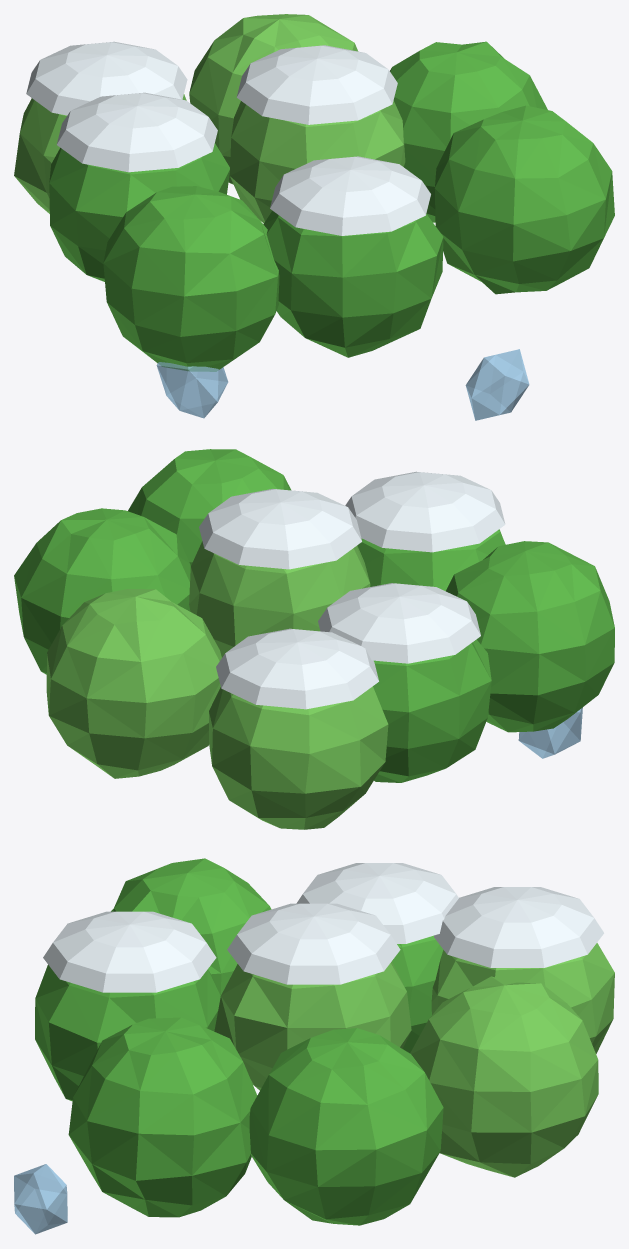
The model's file is FrozenPeas.fbx.
The picture shows the model from 3 angles, top to bottom: view 1: azimuth 30°, elevation 25°; view 2: azimuth 150°, elevation 25°; view 3: azimuth 270°, elevation 25°; orthographic projection. The views are drawn at different scales.
Visible parts, largest first — view 1: Top_5CB848, Top_F0FAFF, Top_78CC5C, Top_A8DCFF_Glass; view 2: Top_5CB848, Top_78CC5C, Top_F0FAFF, Top_A8DCFF_Glass; view 3: Top_5CB848, Top_78CC5C, Top_F0FAFF, Top_A8DCFF_Glass.
Part boxes in pixels (box(x1,y1,x2,y2)): Top_5CB848: box(49, 41, 614, 371); Top_F0FAFF: box(26, 41, 430, 235); Top_78CC5C: box(14, 14, 405, 223); Top_A8DCFF_Glass: box(156, 349, 529, 420); Top_5CB848: box(14, 449, 614, 782); Top_78CC5C: box(46, 541, 388, 829); Top_F0FAFF: box(199, 471, 505, 709); Top_A8DCFF_Glass: box(518, 707, 582, 758); Top_5CB848: box(35, 858, 443, 1225); Top_78CC5C: box(214, 943, 614, 1177); Top_F0FAFF: box(43, 863, 603, 992); Top_A8DCFF_Glass: box(14, 1164, 67, 1234).
Bounding box in the file's own units: 1.99 × 1.07 × 2.
